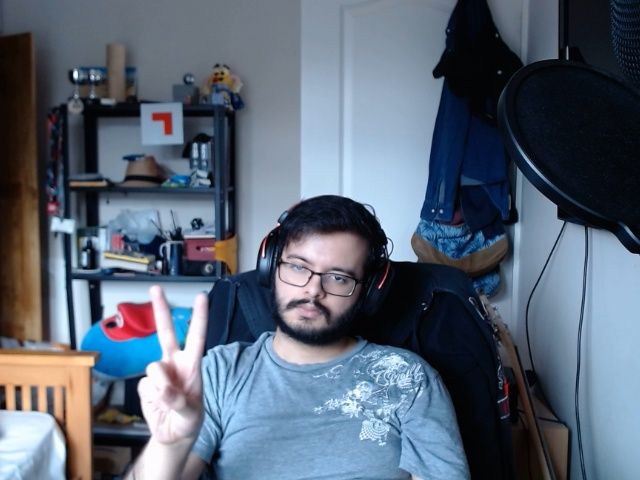Peace: (133, 273, 222, 450)
